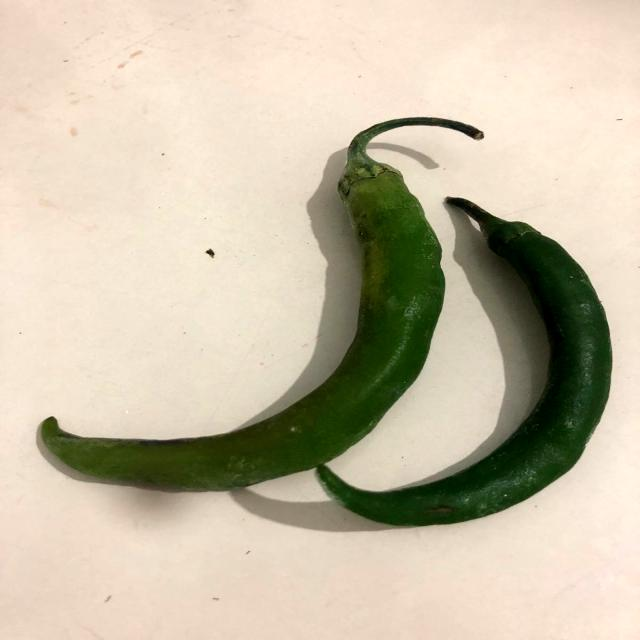green pepper: (36, 110, 504, 496), (316, 176, 619, 544)
